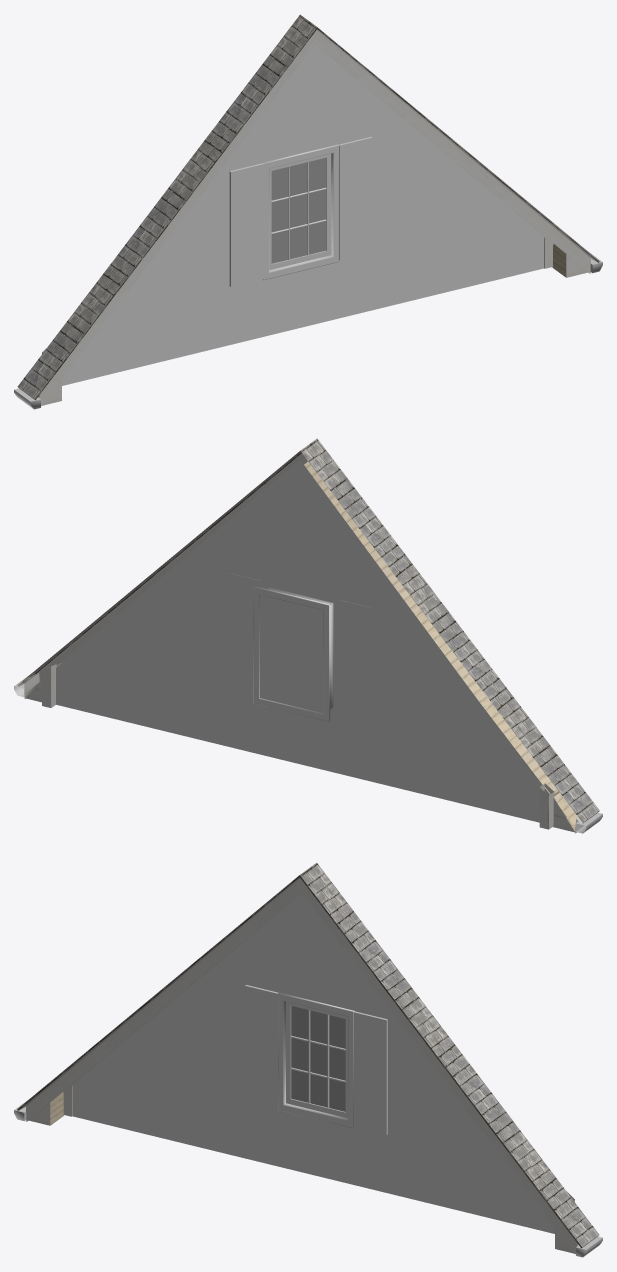
The model's file is Roof_End_Window_A_7x.FBX.
The picture shows the model from 3 angles, top to bottom: view 1: azimuth 30°, elevation 25°; view 2: azimuth 150°, elevation 25°; view 3: azimuth 330°, elevation 25°; orthographic projection.
Visible parts, largest first — view 1: Roof_End_Window_A_7x; view 2: Roof_End_Window_A_7x; view 3: Roof_End_Window_A_7x.
Boxes of the visible parts, <box> form: Roof_End_Window_A_7x: <box>14,14,602,409</box>; Roof_End_Window_A_7x: <box>14,438,602,833</box>; Roof_End_Window_A_7x: <box>14,862,602,1257</box>.
Bounding box in the file's own units: 794 × 418 × 61.41.
